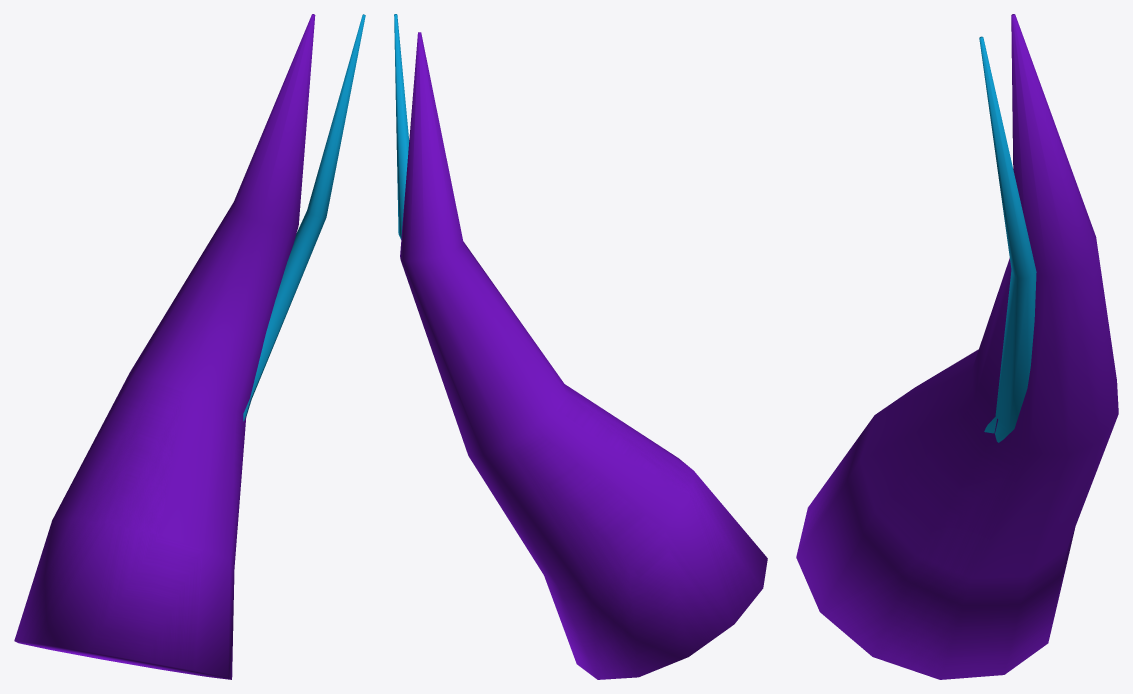
The model's file is SM_shadow_surge_wisp.fbx.
3 views of the same model, side by side, from view 1: azimuth 30°, elevation 25°; view 2: azimuth 150°, elevation 25°; view 3: azimuth 270°, elevation 25° (orthographic). The views are drawn at different scales.
Visible parts, largest first — view 1: SM_shadow_surge_wisp; view 2: SM_shadow_surge_wisp; view 3: SM_shadow_surge_wisp.
Part boxes in pixels (left/top/right/bottom): SM_shadow_surge_wisp: left=14, top=14, right=365, bottom=679; SM_shadow_surge_wisp: left=394, top=14, right=767, bottom=679; SM_shadow_surge_wisp: left=796, top=14, right=1118, bottom=679.
Bounding box in the file's own units: 0.235 × 0.1513 × 0.3908.
